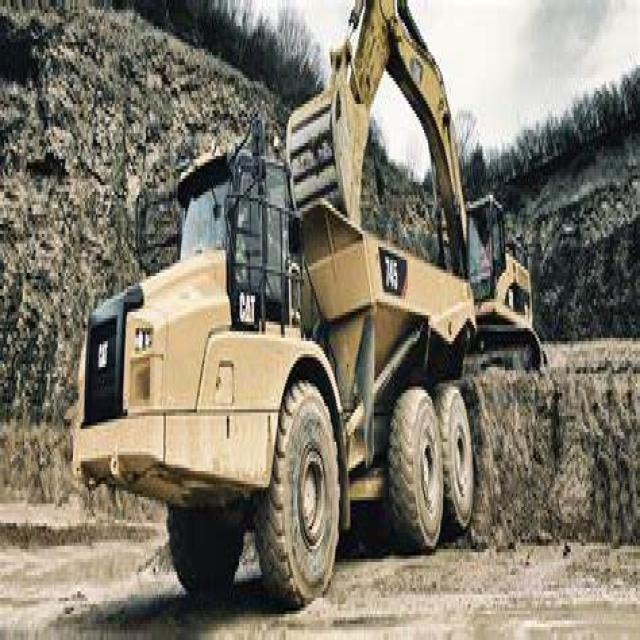dump_truck: (76, 107, 502, 604)
